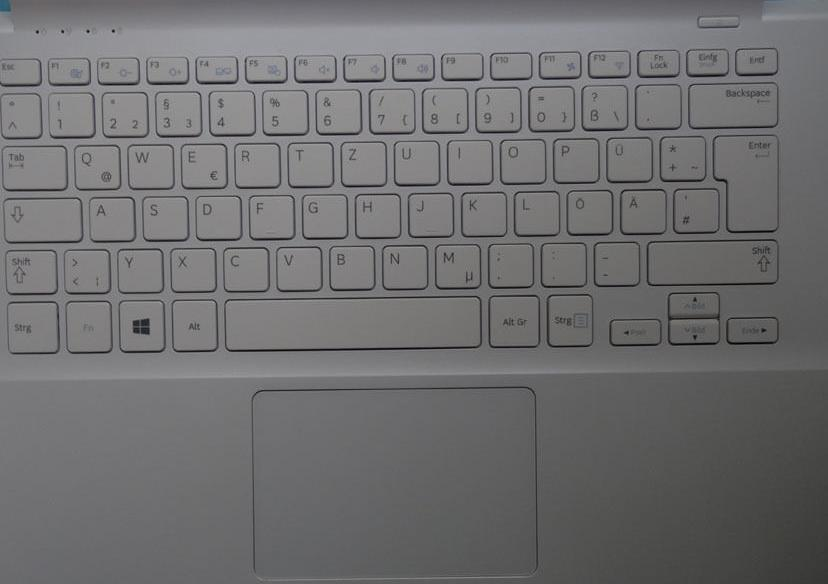0: (525, 82, 572, 130)
1: (44, 89, 92, 135)
2: (97, 88, 147, 135)
3: (150, 88, 200, 134)
4: (205, 87, 253, 133)
5: (257, 86, 306, 133)
6: (311, 85, 359, 132)
7: (365, 85, 413, 132)
8: (418, 84, 466, 131)
9: (471, 83, 519, 130)
a: (85, 193, 133, 239)
accent: (632, 80, 679, 127)
ae: (616, 185, 664, 232)
alt-left: (168, 297, 216, 351)
altgr-right: (485, 292, 539, 346)
b: (325, 242, 373, 288)
c: (220, 244, 267, 290)
caret: (1, 90, 39, 136)
comma: (483, 239, 531, 286)
d: (191, 192, 239, 238)
del: (686, 79, 779, 126)
e: (177, 139, 226, 187)
enter: (711, 130, 778, 230)
f: (245, 192, 292, 237)
g: (298, 191, 345, 237)
h: (351, 190, 398, 236)
hash: (670, 184, 717, 231)
i: (443, 136, 490, 182)
j: (404, 189, 451, 235)
k: (457, 188, 504, 235)
keyboard: (1, 32, 798, 370)
l: (511, 187, 557, 233)
less: (60, 245, 109, 292)
m: (430, 240, 478, 287)
minus: (589, 238, 638, 284)
n: (378, 241, 425, 287)
o: (496, 135, 543, 181)
oe: (562, 186, 610, 232)
p: (549, 134, 596, 181)
plus: (656, 132, 704, 179)
point: (536, 239, 584, 285)
q: (69, 141, 119, 188)
r: (231, 139, 278, 186)
s: (138, 193, 186, 238)
shift-left: (1, 246, 55, 292)
shift-lock: (1, 193, 80, 240)
shift-right: (642, 236, 778, 283)
space: (222, 293, 480, 350)
ss: (577, 81, 625, 128)
strg-left: (2, 298, 57, 352)
strg-right: (543, 291, 592, 346)
t: (284, 138, 331, 185)
tab: (1, 141, 64, 188)
u: (390, 136, 437, 183)
ue: (602, 133, 650, 180)
v: (272, 243, 320, 289)
w: (123, 140, 171, 187)
x: (167, 244, 214, 290)
y: (114, 245, 161, 291)
z: (337, 137, 384, 184)
